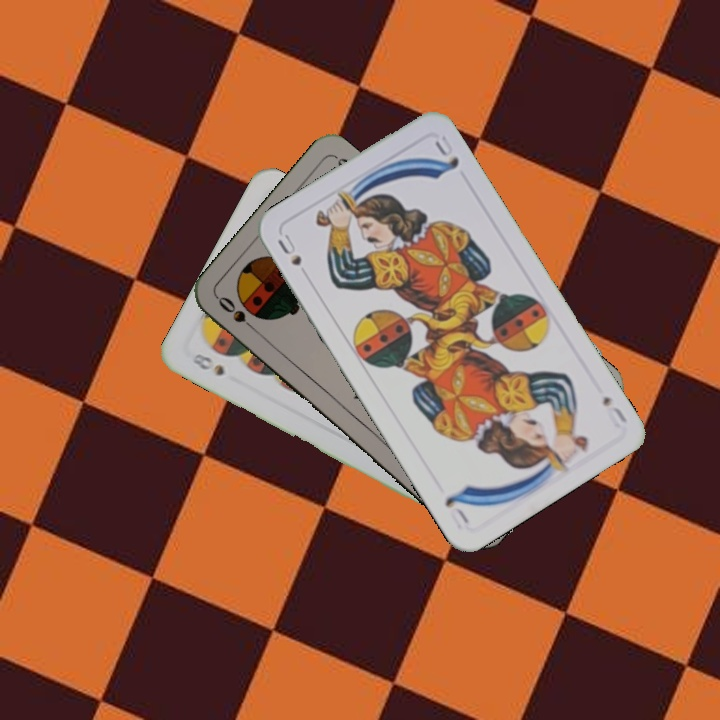S8: (187, 349, 227, 379)
SO: (214, 292, 263, 337)
SU: (273, 230, 313, 283), (598, 391, 630, 431)
